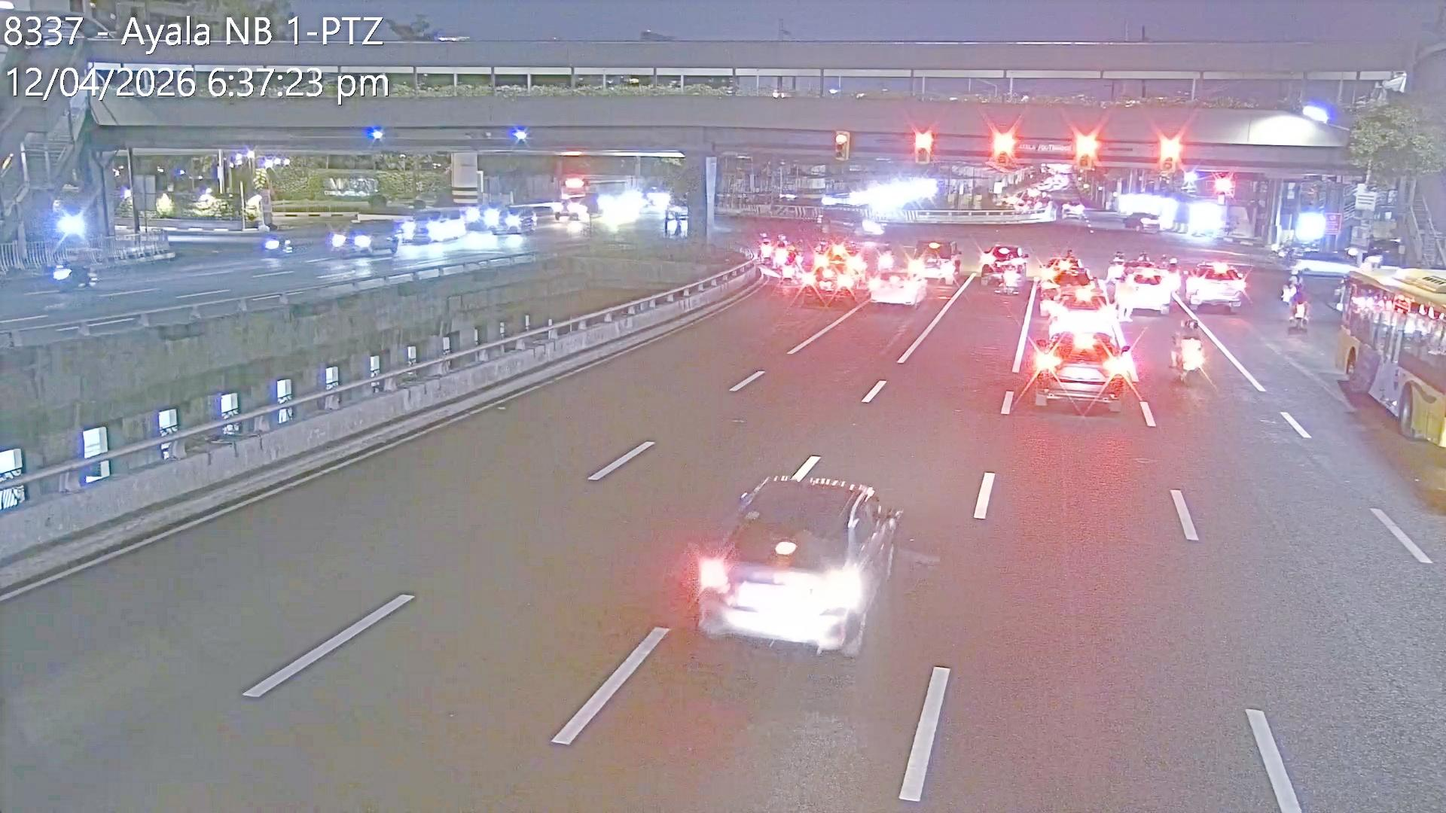Car: (693, 476, 901, 657), (1033, 327, 1135, 412), (1042, 284, 1127, 348), (1286, 245, 1365, 291), (1182, 262, 1250, 314), (1116, 263, 1179, 317), (869, 265, 930, 307), (804, 259, 859, 305), (337, 218, 402, 256), (909, 239, 961, 285), (506, 202, 566, 234), (981, 244, 1025, 283), (419, 209, 468, 242), (397, 211, 442, 243), (1041, 257, 1084, 280)
Motor: (1170, 318, 1205, 384), (1290, 280, 1307, 329), (998, 254, 1018, 293), (1166, 255, 1183, 293), (1104, 252, 1124, 282), (782, 240, 797, 279), (876, 237, 894, 269), (772, 235, 786, 270), (758, 230, 771, 266), (813, 238, 827, 267)
Not Accident: (1034, 256, 1119, 327), (1105, 253, 1176, 310), (802, 238, 861, 306), (872, 238, 928, 307), (760, 227, 796, 281)
